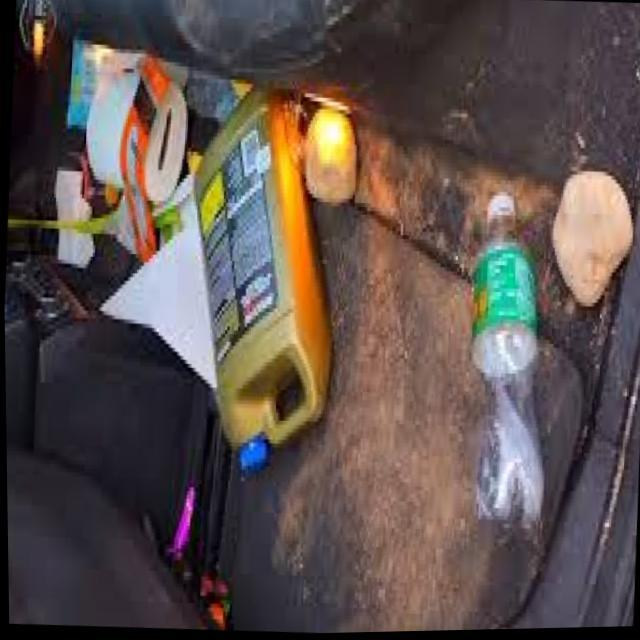fabric: (542, 117, 637, 331), (295, 96, 368, 216)
leaf: (189, 58, 340, 482), (436, 166, 580, 560)
wood: (53, 49, 197, 369)
